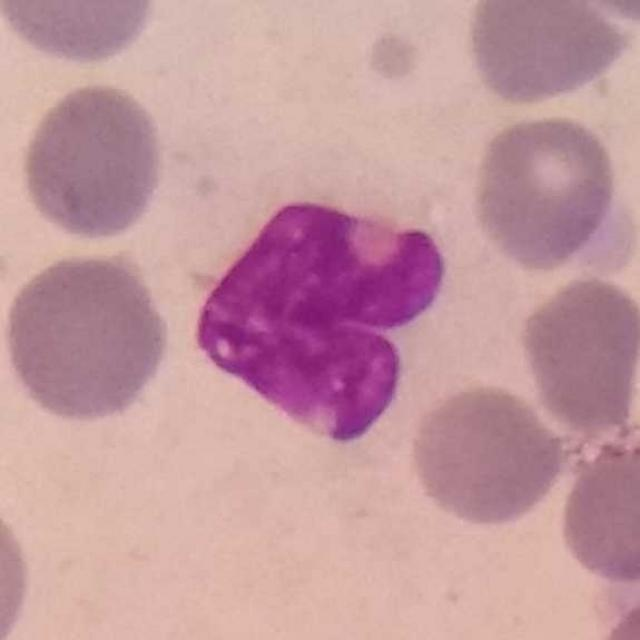Monocyte: (179, 171, 485, 500)
Platelets: (364, 32, 430, 88)
RBC: (0, 248, 175, 426), (466, 108, 627, 276), (15, 77, 170, 247), (404, 378, 570, 530), (513, 269, 640, 441), (464, 0, 640, 109), (554, 427, 640, 589), (0, 0, 163, 70), (0, 486, 38, 639), (589, 584, 640, 640)
